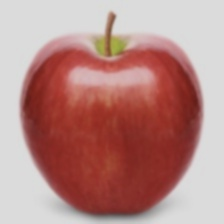apple: (50, 27, 218, 224)
